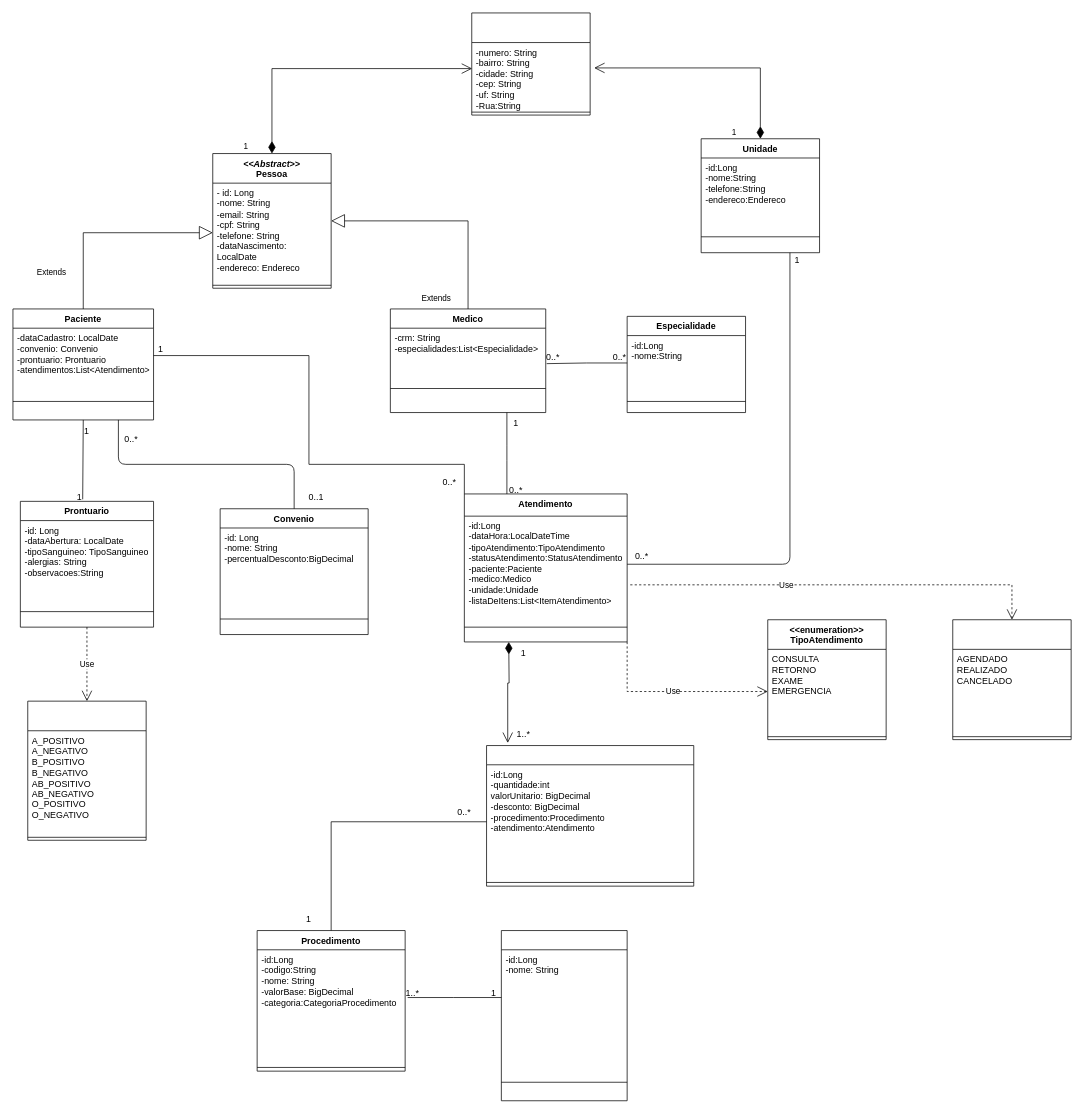
Some shapes in this 1084 by 1114 pixel diagram are drawn without their labels. Here are the shapes that lost their labels. From the top down, the box of each, then its label:
(471, 12, 590, 115): <<Embeddable>> Endereco
(952, 619, 1071, 740): <<enumeration>> StatusAtendimento
(27, 700, 146, 840): <<enumeration>> TipoSanguineo
(486, 745, 694, 886): ItemAtendimento
(501, 930, 627, 1101): CategoriaProcedimento
